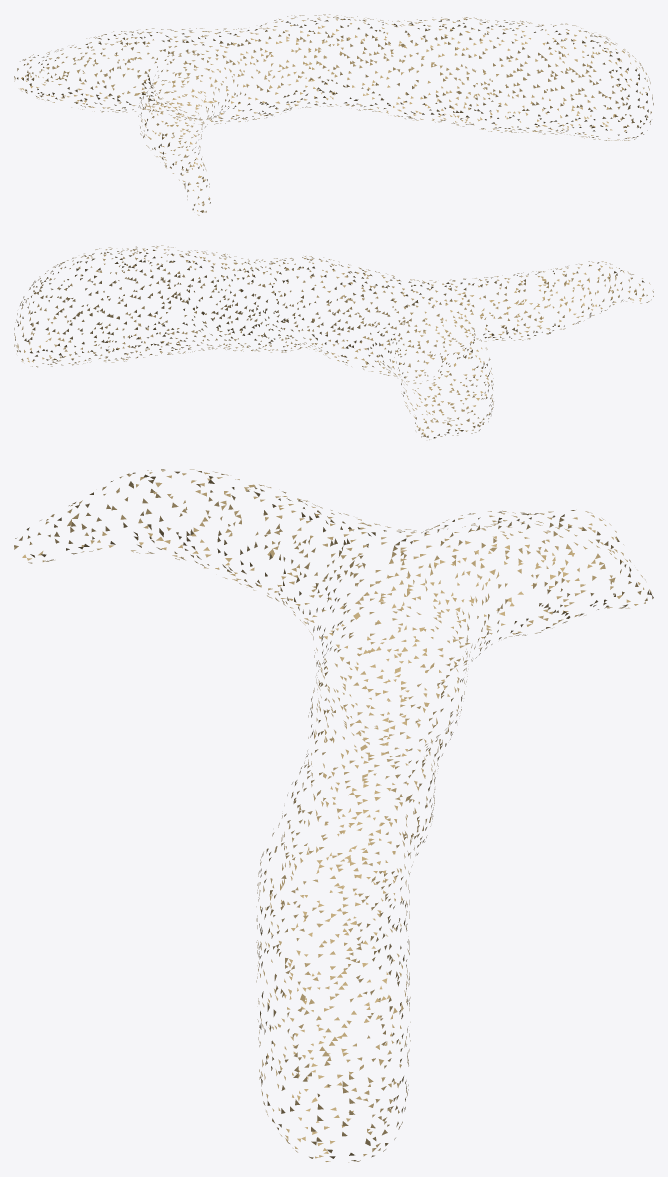
File: morph_007.glb
3 views of the same model, one above another, from view 1: azimuth 30°, elevation 25°; view 2: azimuth 150°, elevation 25°; view 3: azimuth 270°, elevation 25° (orthographic). The views are drawn at different scales.
Bounding box in the file's own units: 119 × 37.96 × 74.46.
